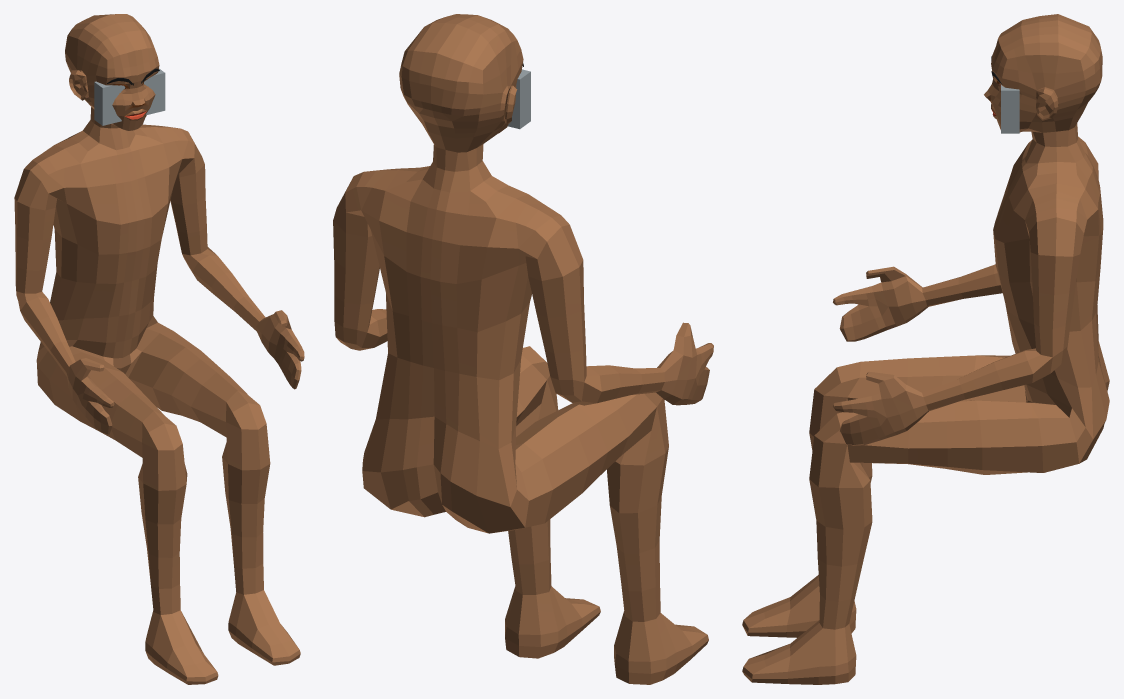
The model's file is Male_Sit_Mask.fbx.
3 views of the same model, side by side, from view 1: azimuth 30°, elevation 25°; view 2: azimuth 150°, elevation 25°; view 3: azimuth 270°, elevation 25° (orthographic). The views are drawn at different scales.
Parts seen in each view (by area): view 1: Male_Sit_Mask; view 2: Male_Sit_Mask; view 3: Male_Sit_Mask.
Part boxes in pixels (left/top/right/bottom): Male_Sit_Mask: left=14, top=14, right=304, bottom=684; Male_Sit_Mask: left=333, top=14, right=713, bottom=684; Male_Sit_Mask: left=742, top=14, right=1109, bottom=684.
Bounding box in the file's own units: 0.3234 × 0.8093 × 0.4269.
